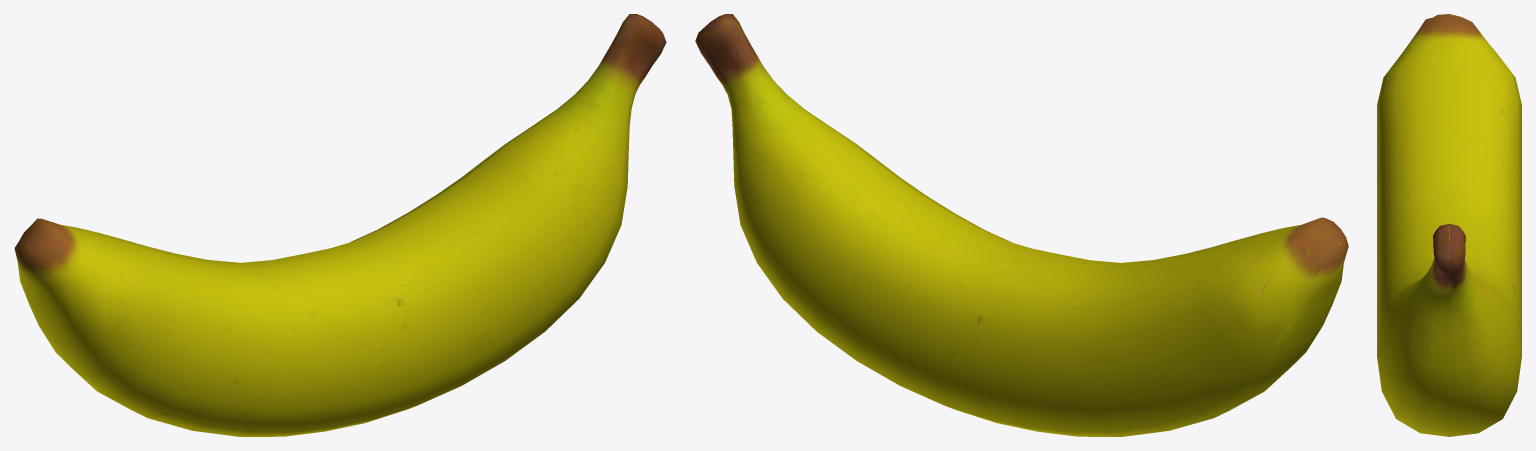
The model's file is banana_5e68fc39_visual.obj.
3 renders of one model, left to right at view 1: azimuth 30°, elevation 25°; view 2: azimuth 150°, elevation 25°; view 3: azimuth 270°, elevation 25°, orthographic. The views are drawn at different scales.
Size of the model in its own units: 0.1018 by 0.05 by 0.0213.
Materials: 1 (1 with a texture image).
